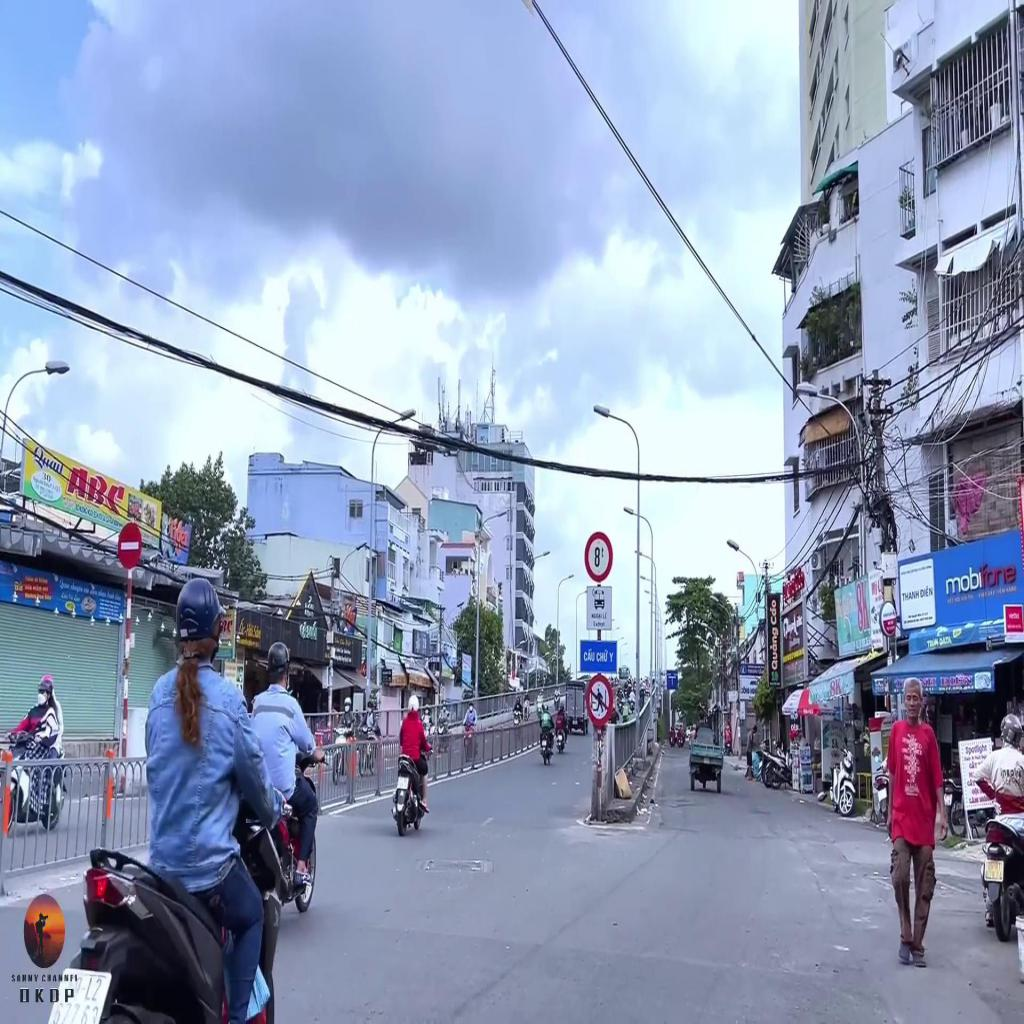cam_xe_di_nguoc_chieu: (117, 521, 143, 571)
khac: (585, 672, 613, 730), (584, 532, 615, 583), (580, 640, 618, 675), (585, 585, 612, 631), (667, 668, 680, 690)
